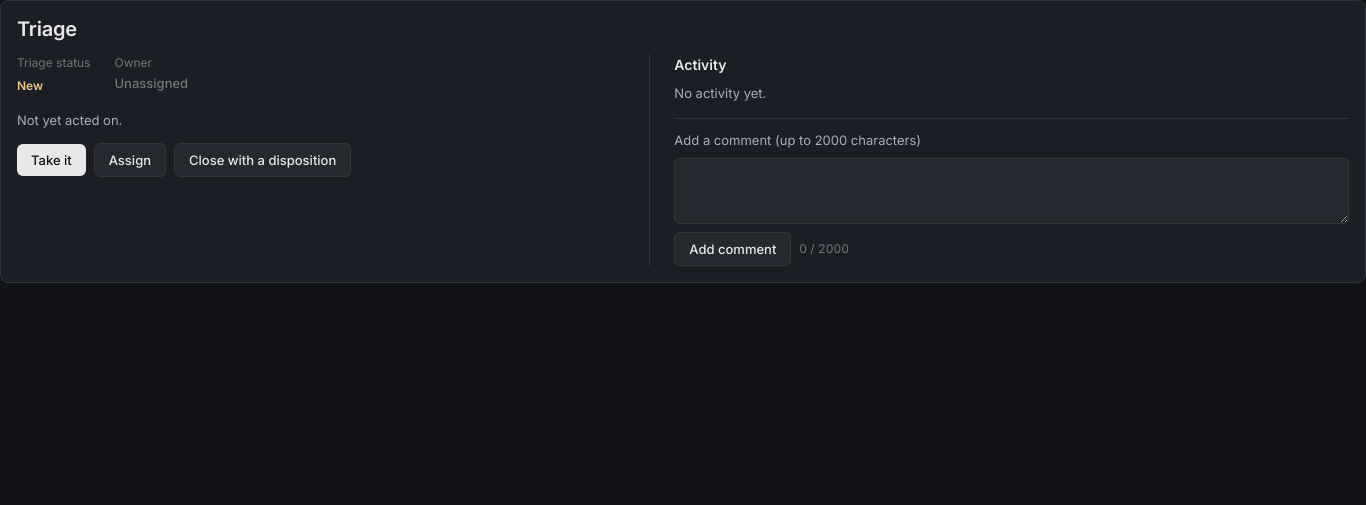
Test case: close with a disposition › is blocked client-side without a disposition and sends nothing
Click the button "Close with a disposition" at (263, 160), box [174,143,351,177]
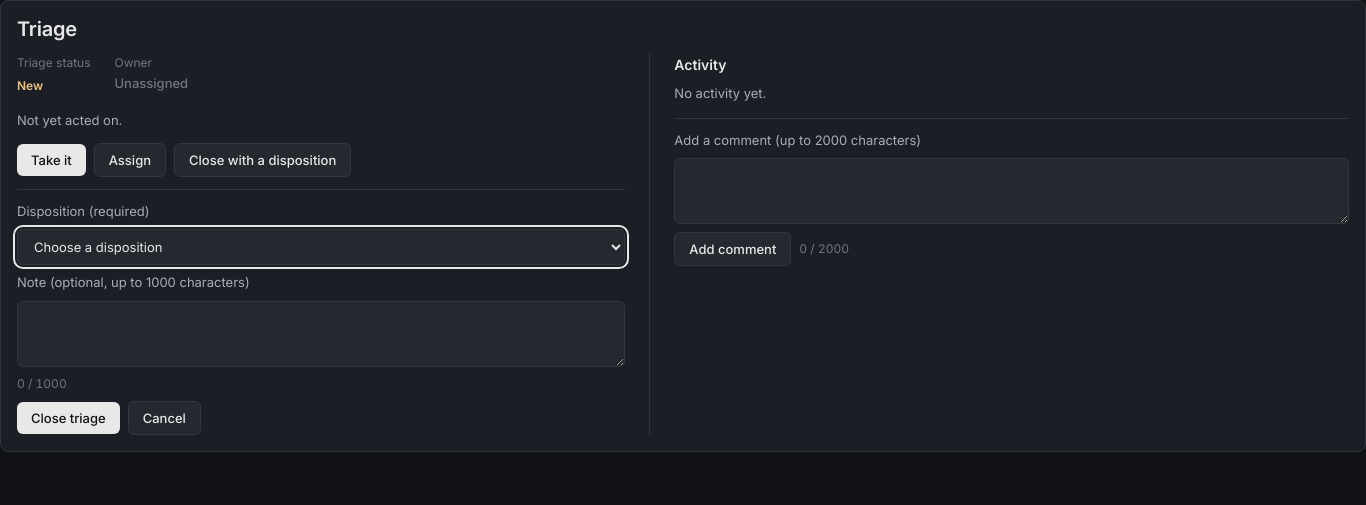
Click the button "Close triage" at (68, 418), box [17,402,120,434]
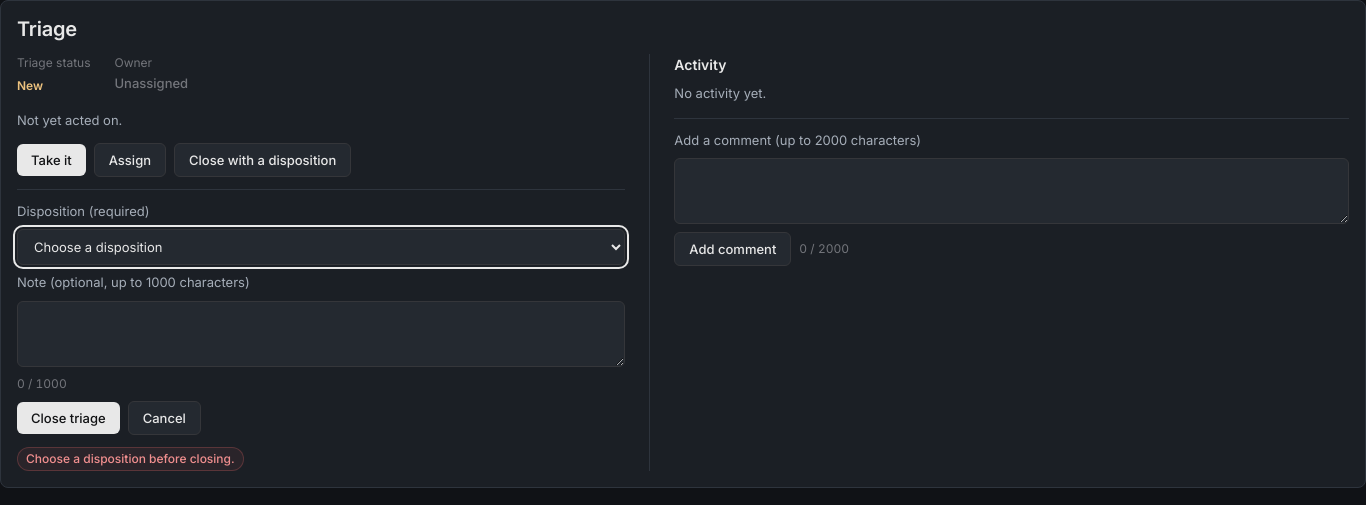
Expected: the message reads "Choose a disposition before closing.", [26,451,235,466]
